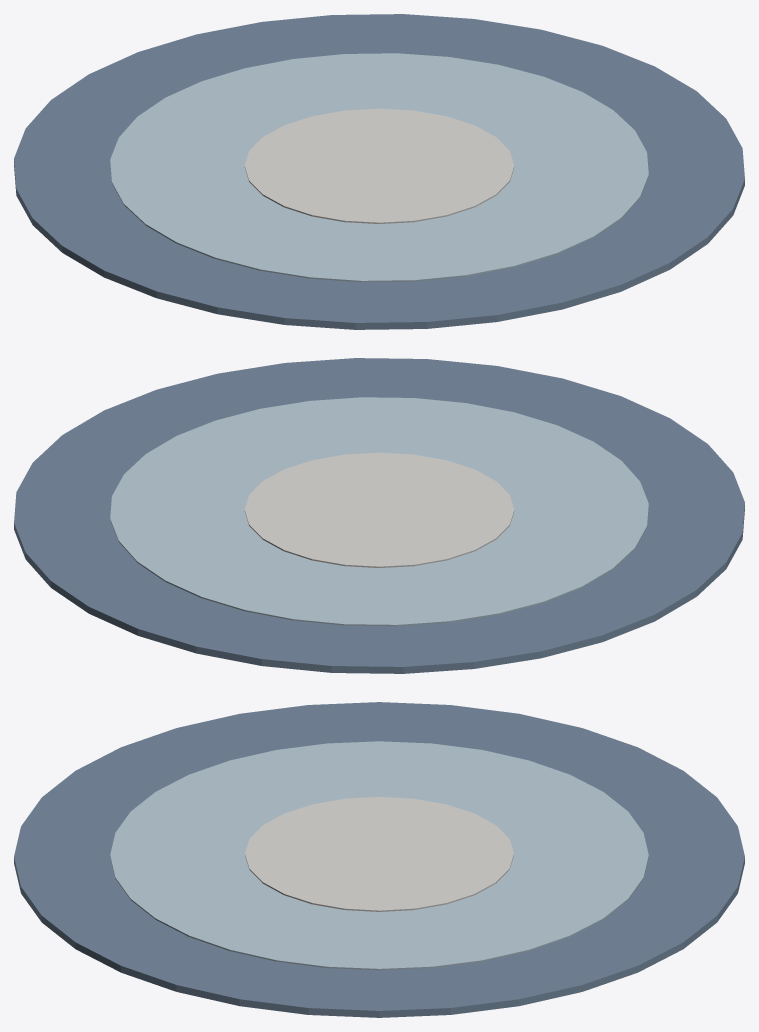
Rendered from furn_rug_round__navy.glb.
3 renders of one model, top to bottom at view 1: azimuth 30°, elevation 25°; view 2: azimuth 150°, elevation 25°; view 3: azimuth 270°, elevation 25°, orthographic.
Size of the model in its own units: 1.9 by 0.028 by 1.9.
